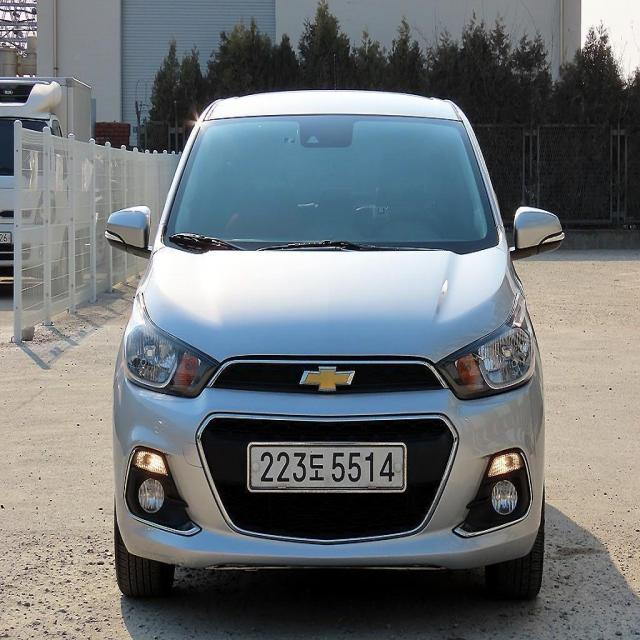car: (99, 81, 574, 613)
illegal_plate: (247, 440, 407, 499)
